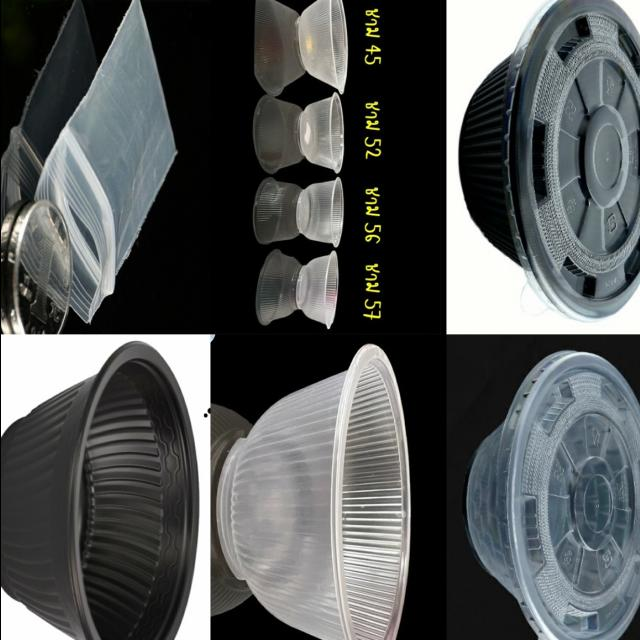plastik: (0, 342, 197, 640), (458, 0, 640, 321), (218, 344, 409, 640), (465, 351, 640, 640), (34, 0, 175, 322), (296, 0, 347, 94), (297, 93, 343, 173), (295, 177, 343, 248), (295, 250, 337, 328)
